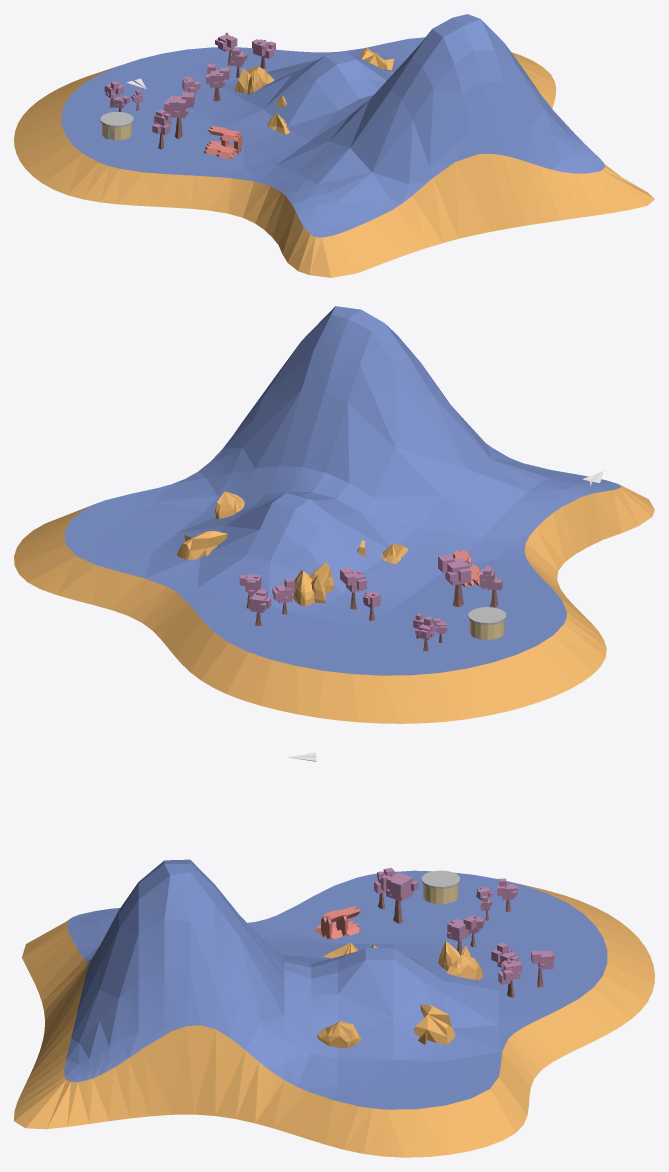
3 views of the same model, one above another, from view 1: azimuth 30°, elevation 25°; view 2: azimuth 150°, elevation 25°; view 3: azimuth 270°, elevation 25° (orthographic). The views are drawn at different scales.
Visible parts, largest first — view 1: Grass, Rocks, Leafs, P1_Blocks, Trunks, P0_Roof; view 2: Grass, Rocks, Leafs, Trunks; view 3: Grass, Rocks, Leafs, P1_Blocks, Trunks, P0_Roof.
Boxes of the visible parts, x1,y1,x2,y2 form: Grass: [61, 14, 604, 237]; Rocks: [14, 47, 654, 277]; Leafs: [104, 32, 275, 135]; P1_Blocks: [203, 126, 242, 158]; Trunks: [109, 48, 265, 149]; P0_Roof: [100, 111, 133, 139]; Grass: [64, 306, 620, 675]; Rocks: [14, 484, 654, 723]; Leafs: [239, 554, 502, 639]; Trunks: [246, 584, 498, 651]; Grass: [64, 859, 607, 1109]; Rocks: [14, 881, 654, 1157]; Leafs: [374, 867, 554, 984]; P1_Blocks: [314, 906, 360, 939]; Trunks: [378, 893, 543, 997]; P0_Roof: [421, 870, 460, 888].
Bounding box in the file's own units: 114 × 35.77 × 110.
